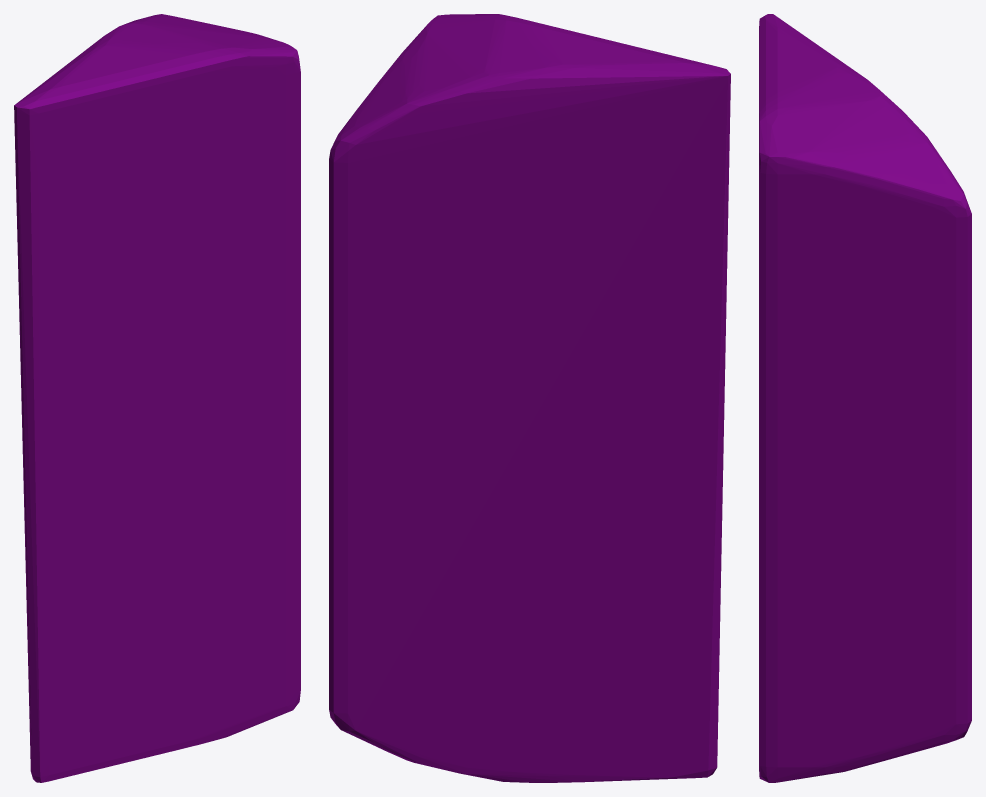
Rendered from left_lf_metacarpal_part_11.obj.
The picture shows the model from 3 angles, left to right: view 1: azimuth 30°, elevation 25°; view 2: azimuth 150°, elevation 25°; view 3: azimuth 270°, elevation 25°; orthographic projection. The views are drawn at different scales.
Bounding box in the file's own units: 9.66 × 22.4 × 6.57.
